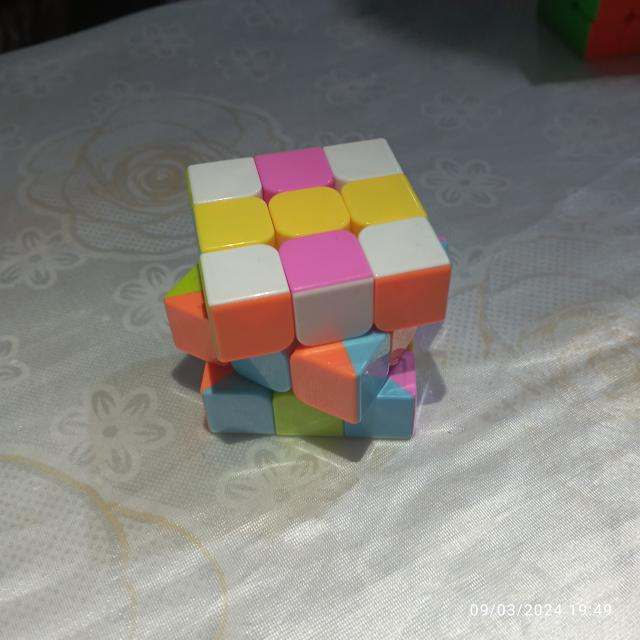Rub: (160, 133, 455, 450)
